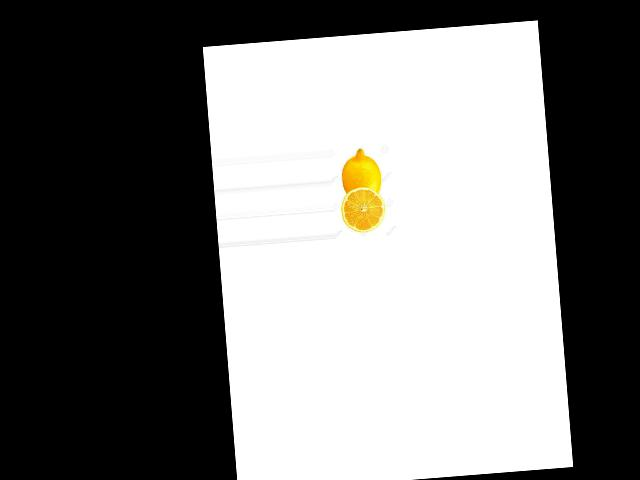lemon: (333, 147, 385, 202)
